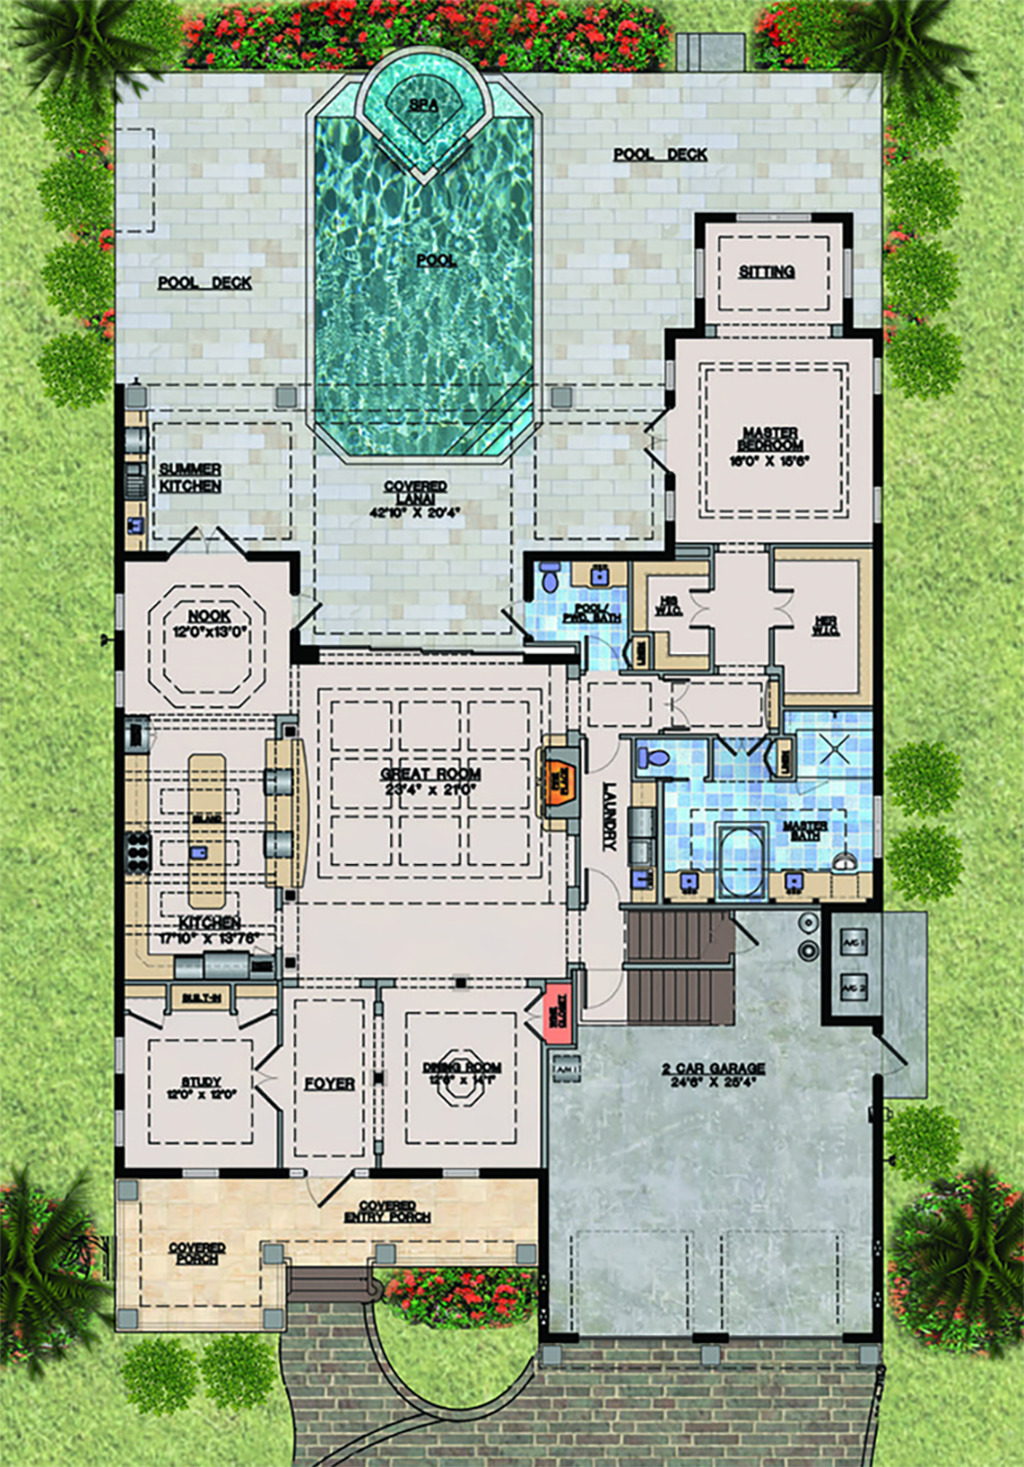door: (289, 586, 330, 630), (306, 1170, 355, 1205), (765, 586, 801, 628), (687, 580, 712, 633)
large_sink: (637, 737, 672, 783), (534, 556, 566, 601)
stairs: (620, 898, 747, 1030)
tub: (716, 820, 770, 909)
